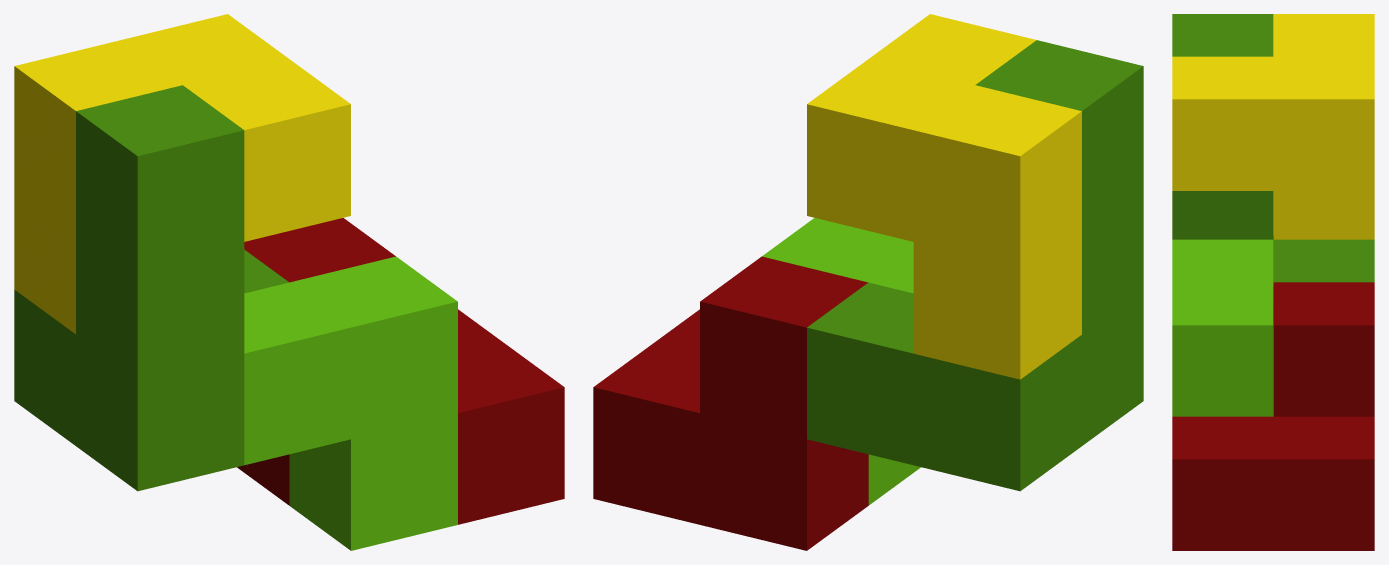
The picture shows the model from 3 angles, left to right: view 1: azimuth 30°, elevation 25°; view 2: azimuth 150°, elevation 25°; view 3: azimuth 270°, elevation 25°; orthographic projection. The views are drawn at different scales.
Parts seen in each view (by area): view 1: mergedBlocks(Clone); view 2: mergedBlocks(Clone); view 3: mergedBlocks(Clone).
Part boxes in pixels (x1,y1,x2,y2): mergedBlocks(Clone): [14, 14, 564, 550]; mergedBlocks(Clone): [593, 14, 1143, 550]; mergedBlocks(Clone): [1172, 14, 1374, 550].
Bounding box in the file's own units: 4 × 4 × 2.
Materials: 4 (4 with a texture image).
